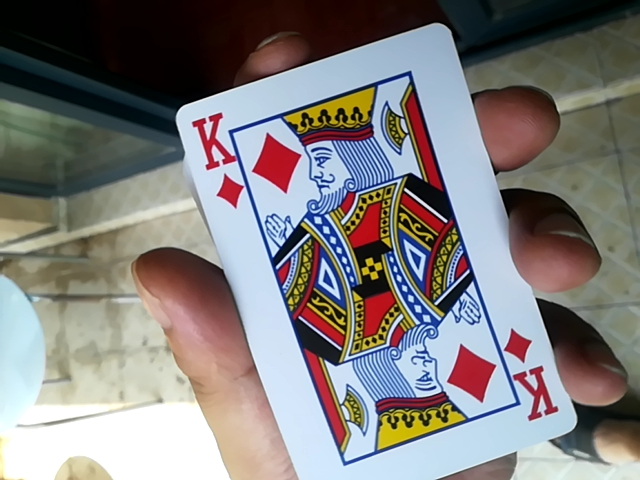fk k: (182, 26, 574, 480)
